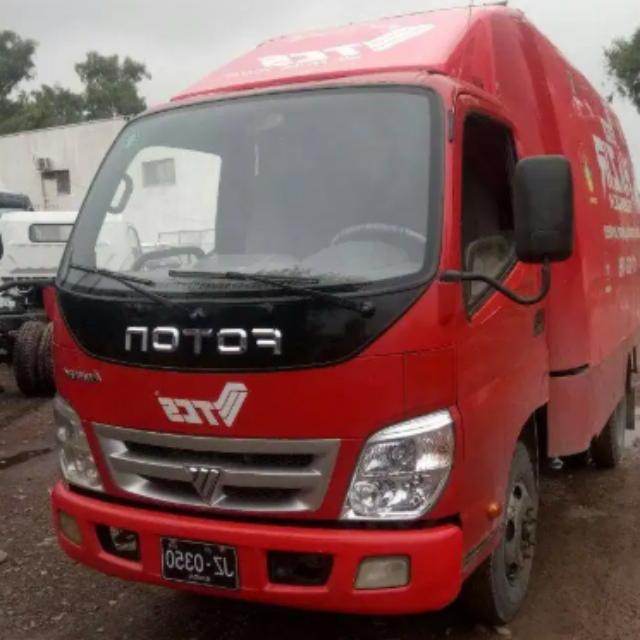plate: (160, 537, 239, 591)
